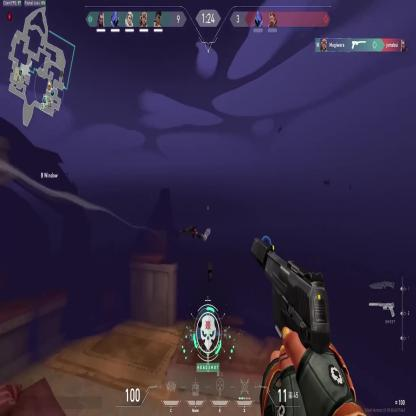enemy: (189, 200, 216, 319)
